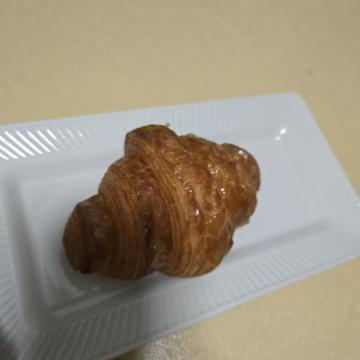croissant: (110, 89, 294, 307)
